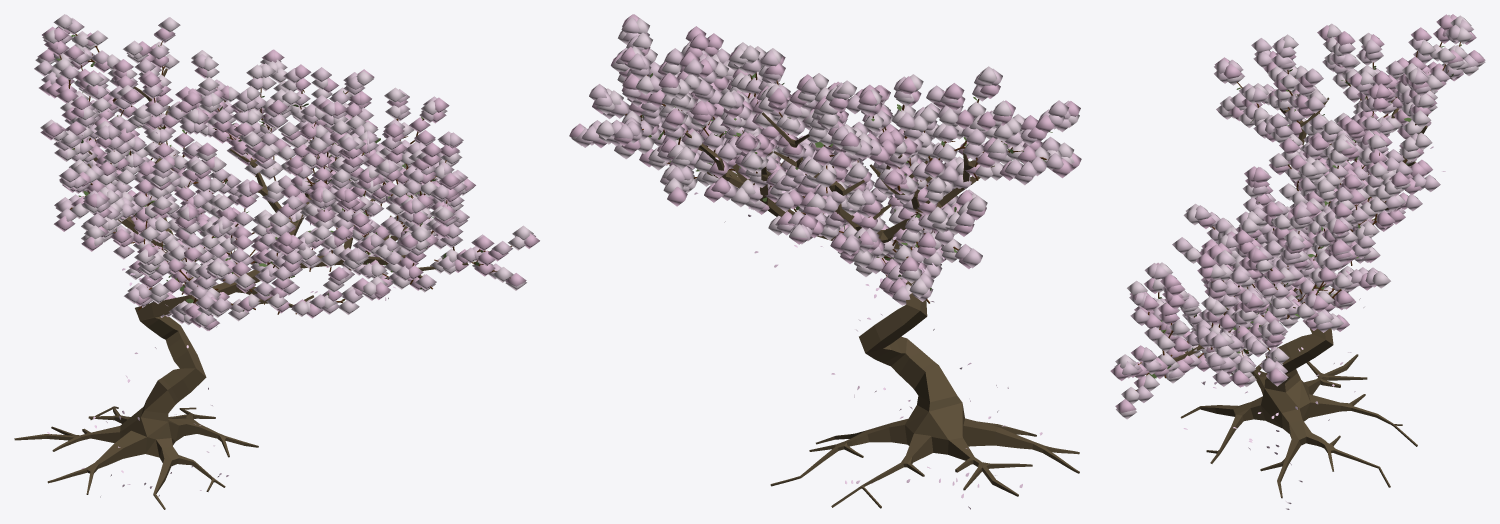
File: sakura-tree-low.glb
3 renders of one model, left to right at view 1: azimuth 30°, elevation 25°; view 2: azimuth 150°, elevation 25°; view 3: azimuth 270°, elevation 25°, orthographic. The views are drawn at different scales.
Visible parts, largest first — view 1: Cube.008; view 2: Cube.008; view 3: Cube.008.
Part boxes in pixels (left/top/right/bottom): Cube.008: left=14, top=14, right=539, bottom=509; Cube.008: left=569, top=14, right=1081, bottom=509; Cube.008: left=1110, top=14, right=1485, bottom=509.
Bounding box in the file's own units: 7.06 × 6.63 × 4.99.
